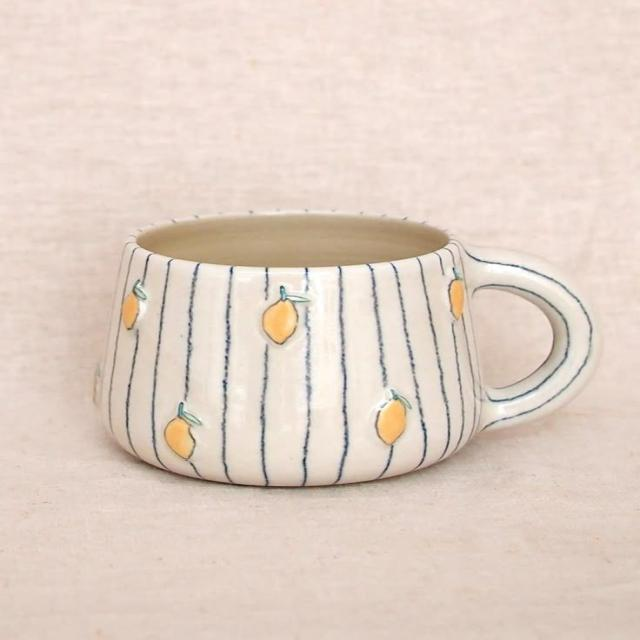glass cup: (98, 207, 601, 488)
